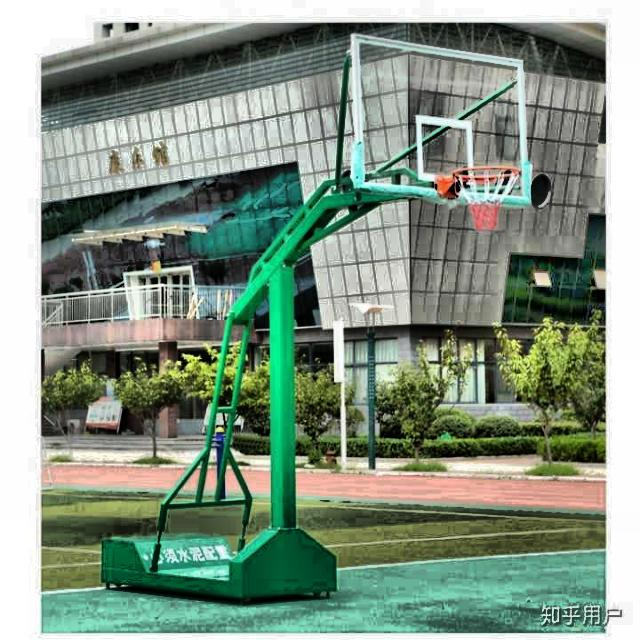rim: (450, 165, 519, 234)
